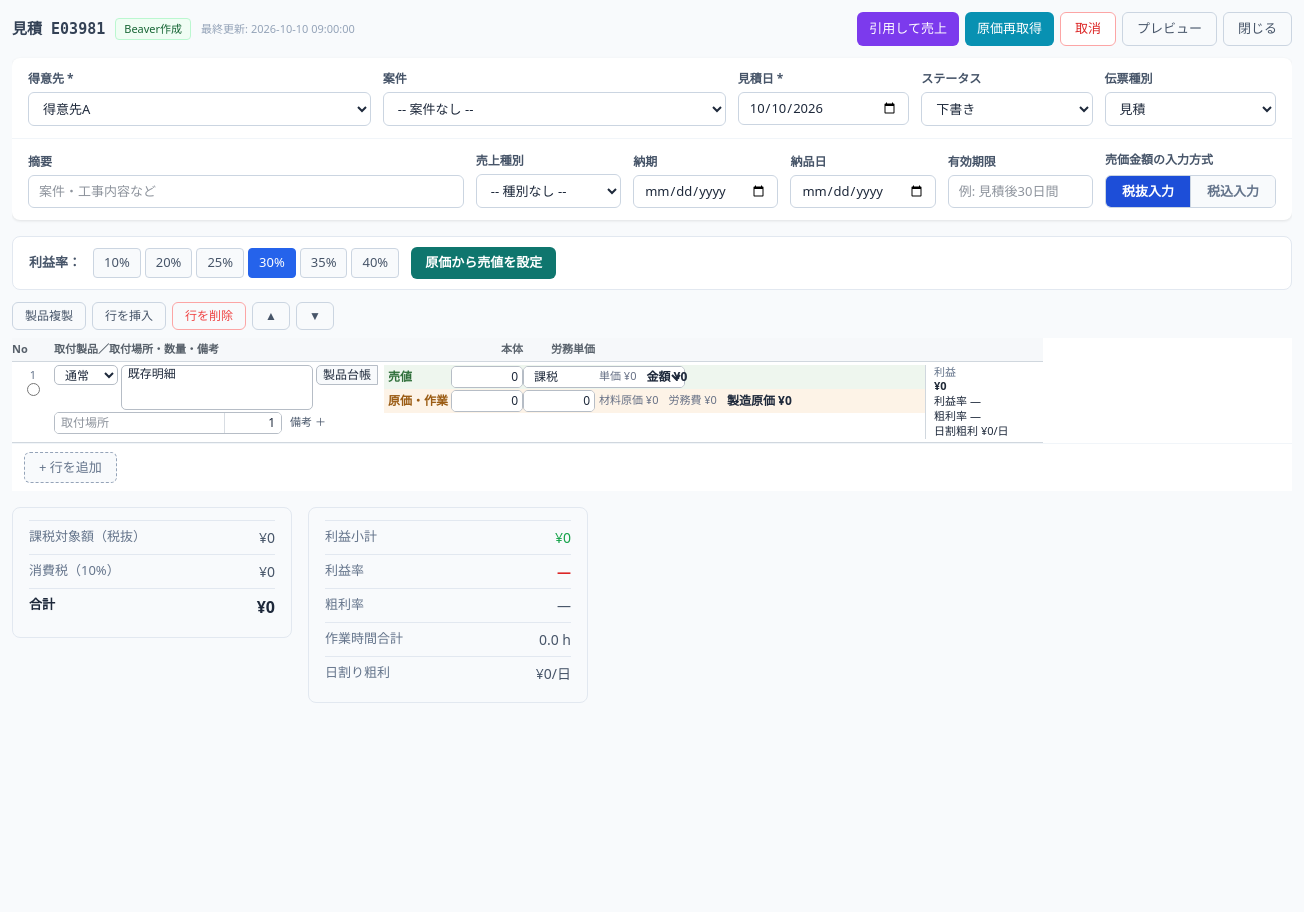
Scenario: R-0164 既存伝票の明細行はフォーカスが外れたときに保存する › 既存の行を編集してフォーカスを外すと、その行を更新して保存時刻を表示する
The width and height of the screenshot is (1304, 912).
Expected: the text "Beaver作成" is shown, [115,18,191,40]
Type "追記" into the text box showing "既存明細" at (217, 387), box [121,364,313,410]
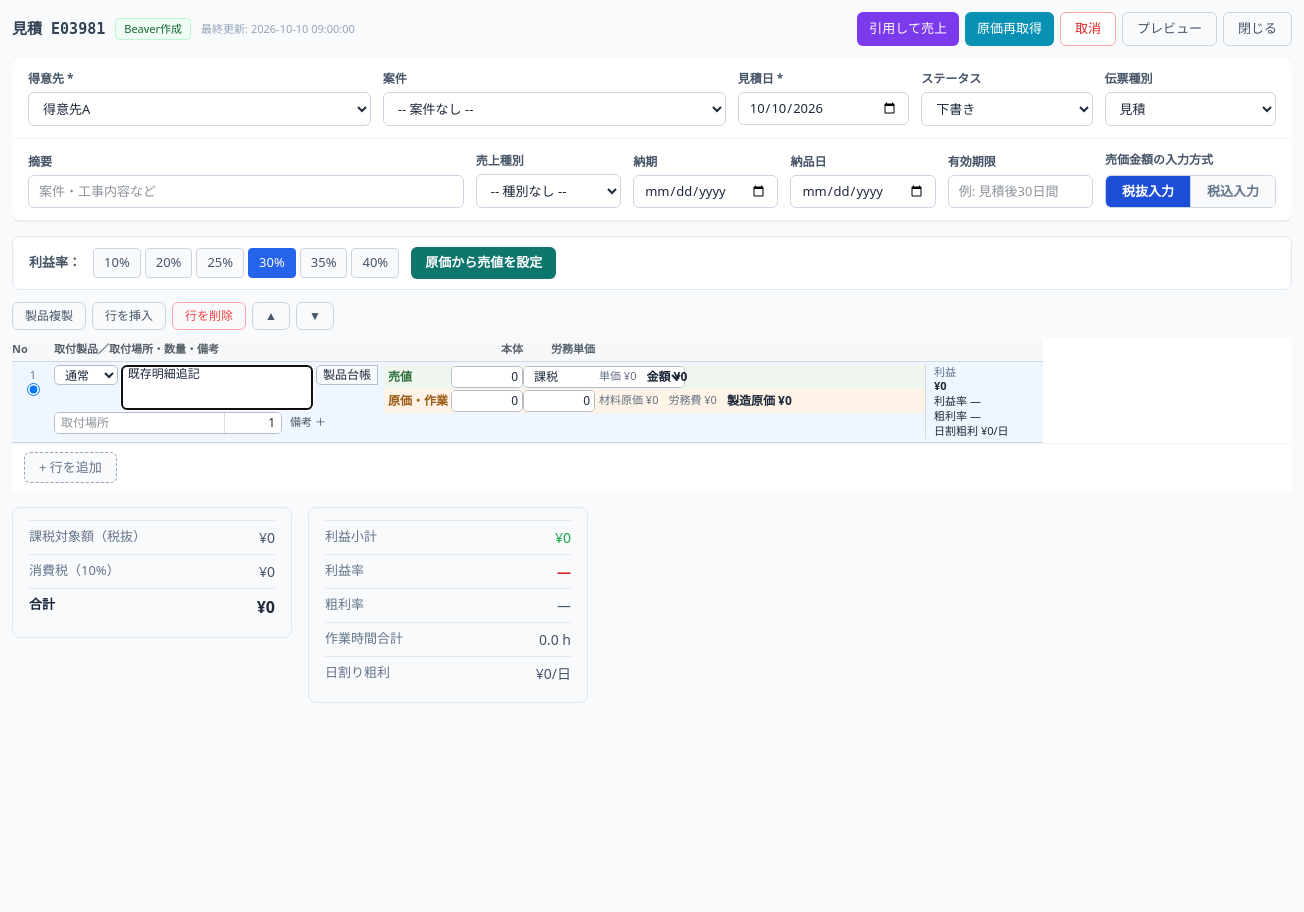
Press Tab
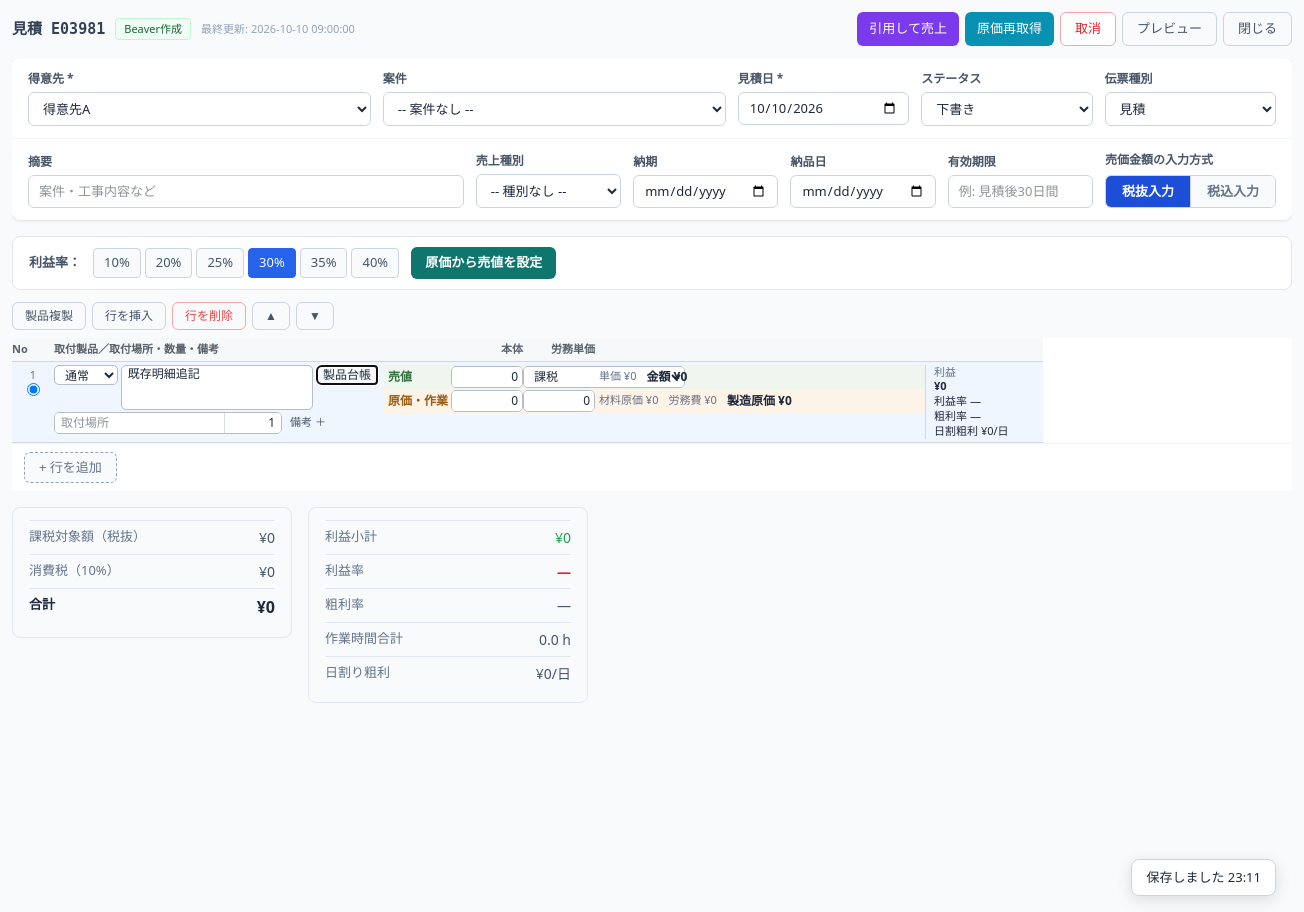
Expected: the text "保存しました 23:11" is shown, [1146,868,1261,887]
